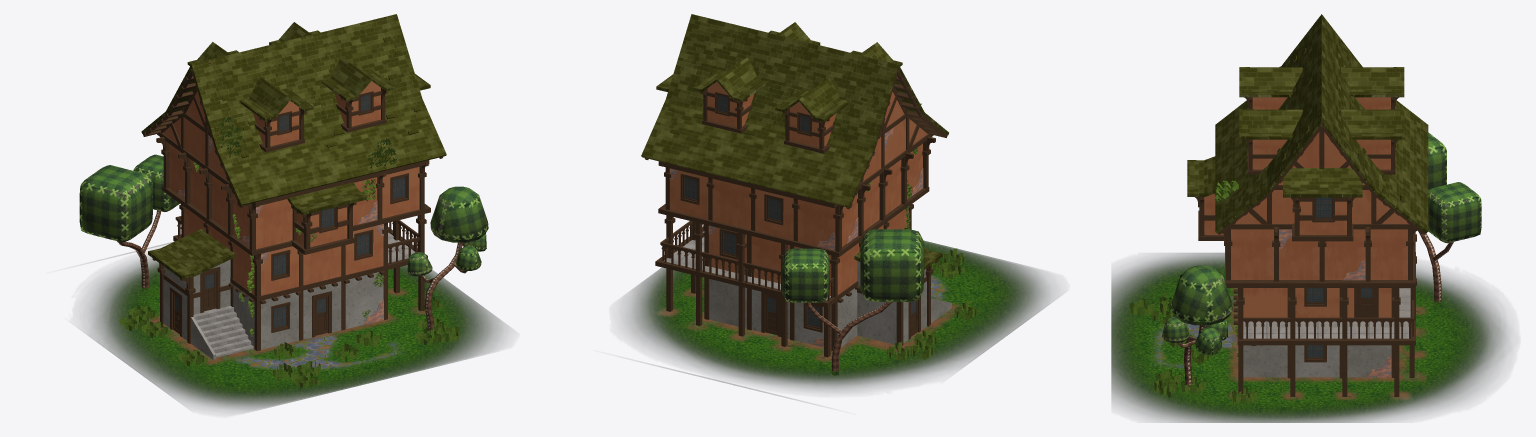
File: Green_house.glb
3 views of the same model, side by side, from view 1: azimuth 30°, elevation 25°; view 2: azimuth 150°, elevation 25°; view 3: azimuth 270°, elevation 25° (orthographic). The views are drawn at different scales.
Parts seen in each view (by area): view 1: lpb_House1_0, Plane_4, lpb_cs_tree13_3, lpb_cs_Grass3001_1, lpb_cs_tree1_2; view 2: lpb_House1_0, Plane_4, lpb_cs_tree13_3, lpb_cs_Grass3001_1; view 3: lpb_House1_0, Plane_4, lpb_cs_tree1_2, lpb_cs_tree13_3, lpb_cs_Grass3001_1.
Boxes of the visible parts, bbox=[...] form: lpb_House1_0: bbox=[141, 14, 446, 359]; Plane_4: bbox=[84, 242, 508, 411]; lpb_cs_tree13_3: bbox=[79, 154, 179, 289]; lpb_cs_Grass3001_1: bbox=[120, 116, 459, 387]; lpb_cs_tree1_2: bbox=[407, 186, 488, 332]; lpb_House1_0: bbox=[641, 14, 951, 357]; Plane_4: bbox=[621, 240, 1055, 400]; lpb_cs_tree13_3: bbox=[782, 229, 924, 372]; lpb_cs_Grass3001_1: bbox=[866, 103, 977, 361]; lpb_House1_0: bbox=[1187, 14, 1428, 396]; Plane_4: bbox=[1111, 253, 1511, 422]; lpb_cs_tree1_2: bbox=[1162, 265, 1232, 389]; lpb_cs_tree13_3: bbox=[1418, 132, 1481, 302]; lpb_cs_Grass3001_1: bbox=[1129, 66, 1280, 403].
Bounding box in the file's own units: 19.56 × 15.52 × 20.11.
Materials: 11 (10 with a texture image).
